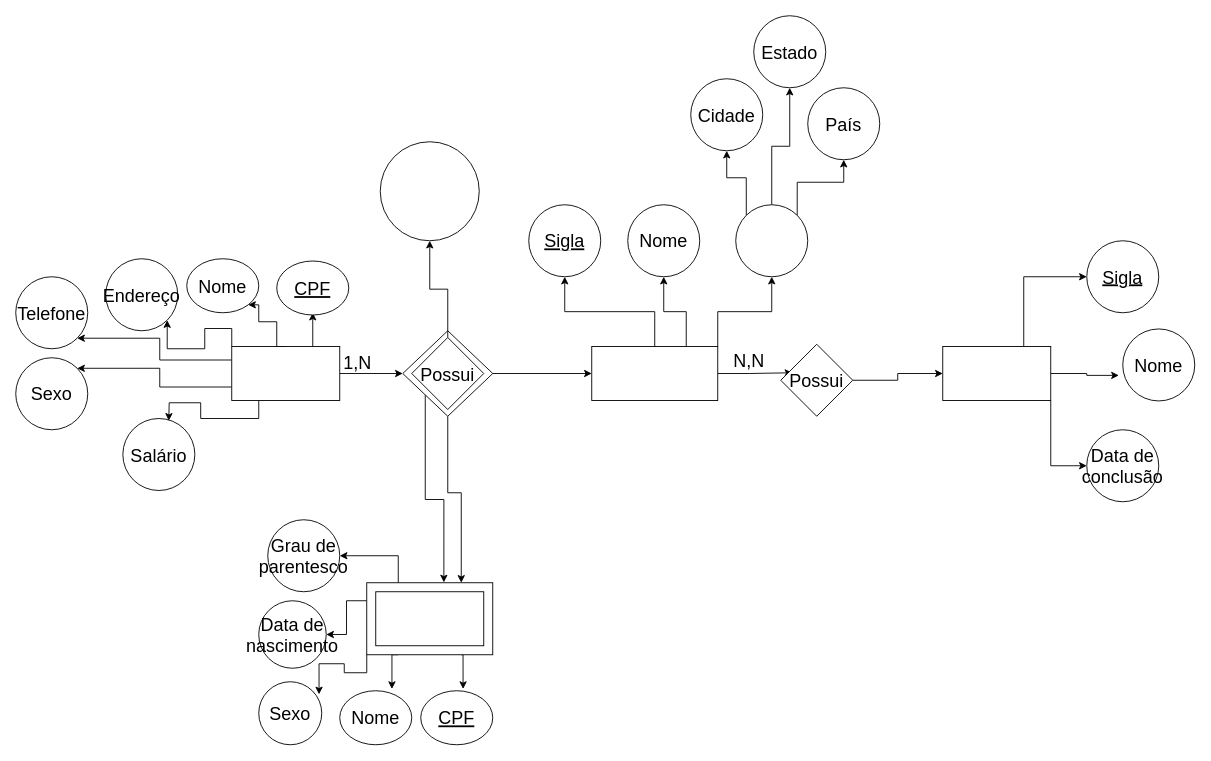
This 1211x761 diagram has some shape labels left out. The centre of each missing label's shape, as x and y in pixels:
"Departamento" goes at (654,373).
"Dependente" goes at (429,618).
"Funcionário" goes at (285,373).
"Horas trabalhadas" goes at (429,191).
"Local" goes at (771,240).
"Projeto" goes at (996,373).
